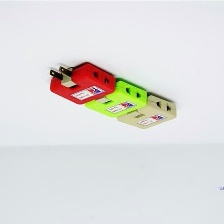three_eye_plug: (44, 57, 119, 109), (80, 74, 149, 121), (114, 89, 180, 133)
